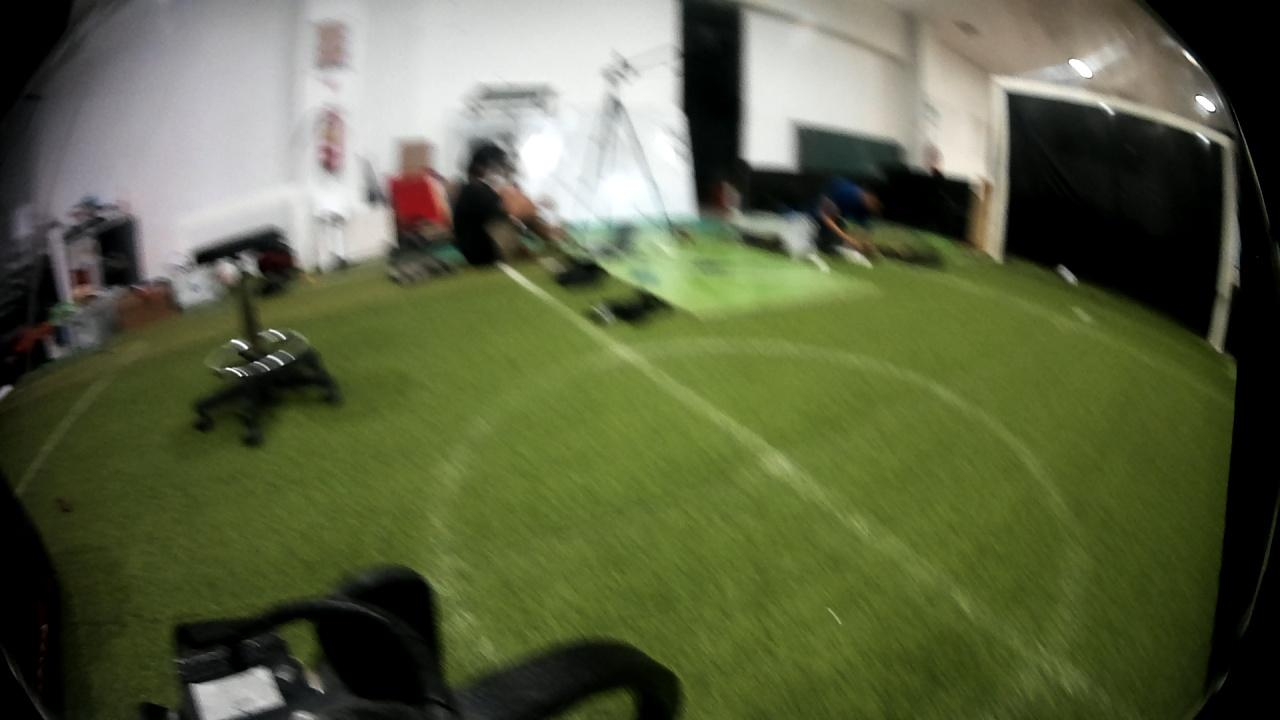ball: (1054, 259, 1081, 288)
